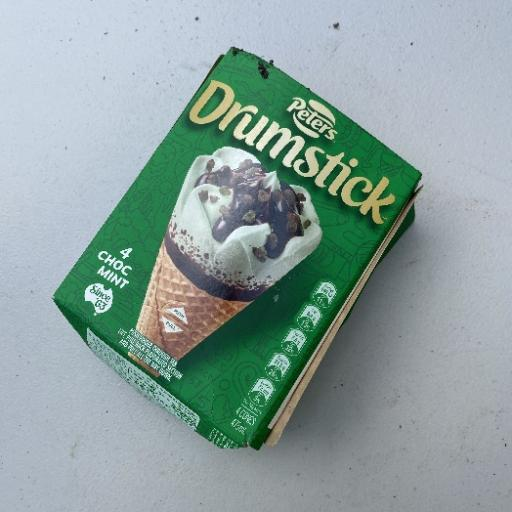Cardboard: (51, 46, 424, 451)
